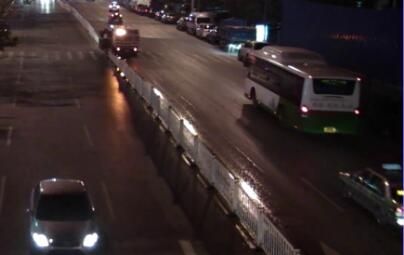bus: (240, 44, 364, 140)
car: (24, 175, 104, 252), (337, 161, 400, 231), (105, 22, 141, 54), (186, 11, 206, 34), (194, 20, 216, 39), (107, 10, 126, 21), (106, 2, 123, 13)
